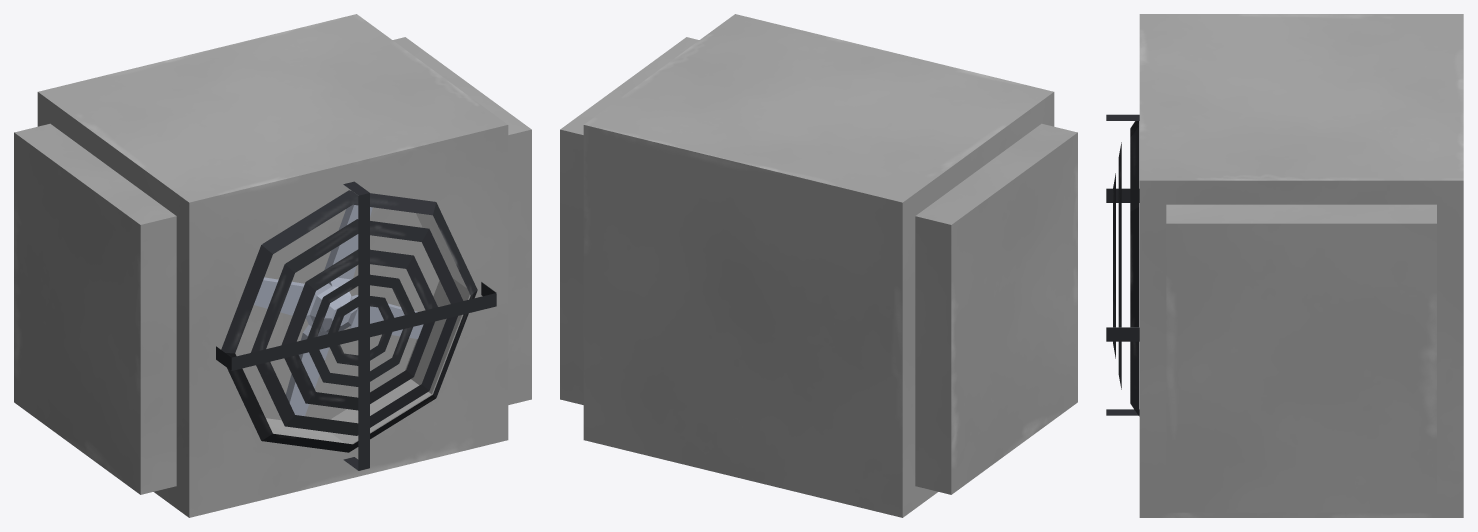
Rendered from Obj_Cooler.fbx.
3 views of the same model, side by side, from view 1: azimuth 30°, elevation 25°; view 2: azimuth 150°, elevation 25°; view 3: azimuth 270°, elevation 25° (orthographic). The views are drawn at different scales.
Visible parts, largest first — view 1: AC_Base, AC_Grate, AC_Fan; view 2: AC_Base; view 3: AC_Base, AC_Grate.
Boxes of the visible parts, bbox=[...] form: AC_Base: bbox=[14, 14, 531, 517]; AC_Grate: bbox=[216, 181, 496, 470]; AC_Fan: bbox=[254, 204, 423, 416]; AC_Base: bbox=[560, 14, 1077, 517]; AC_Base: bbox=[1139, 14, 1463, 517]; AC_Grate: bbox=[1106, 114, 1139, 416].
Bounding box in the file's own units: 1305 × 1005 × 964.
Materials: 1 (1 with a texture image).
